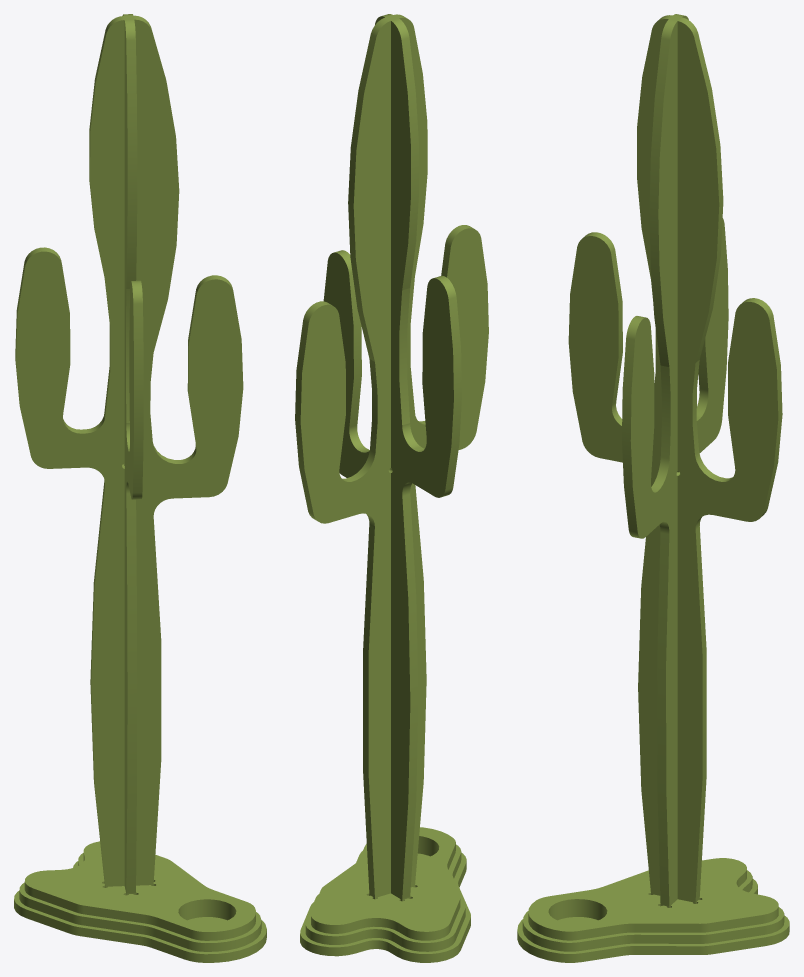
File: cacti_a_green.gltf
The picture shows the model from 3 angles, left to right: view 1: azimuth 30°, elevation 25°; view 2: azimuth 150°, elevation 25°; view 3: azimuth 270°, elevation 25°; orthographic projection.
Visible parts, largest first — view 1: CACTI ASSEMBLY v3; view 2: CACTI ASSEMBLY v3; view 3: CACTI ASSEMBLY v3.
Boxes of the visible parts, box(x1,y1,x2,y2) form: CACTI ASSEMBLY v3: box(14, 14, 266, 962); CACTI ASSEMBLY v3: box(295, 14, 488, 962); CACTI ASSEMBLY v3: box(517, 14, 789, 962).
Size of the model in its own units: 0.392 by 1.83 by 0.4991.
Materials: 1 (1 with a texture image).
